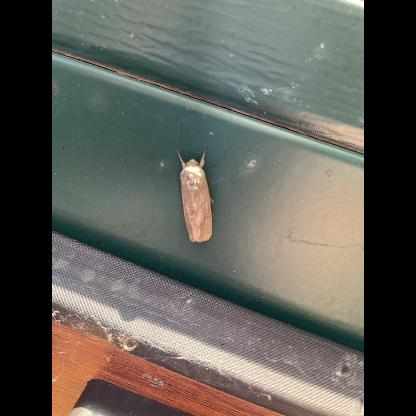Fall Armyworm Moth: (176, 144, 216, 244)
